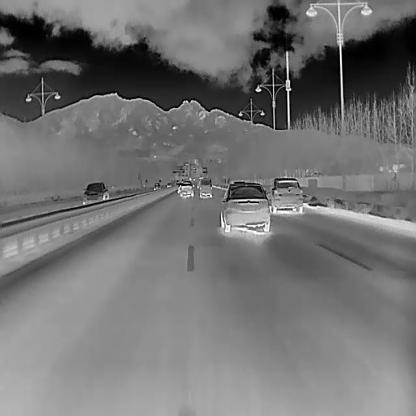car: (219, 180, 270, 233), (268, 176, 303, 213), (82, 181, 108, 203), (178, 180, 194, 198), (199, 178, 212, 197), (152, 181, 161, 190), (166, 180, 172, 188), (175, 178, 179, 184)
